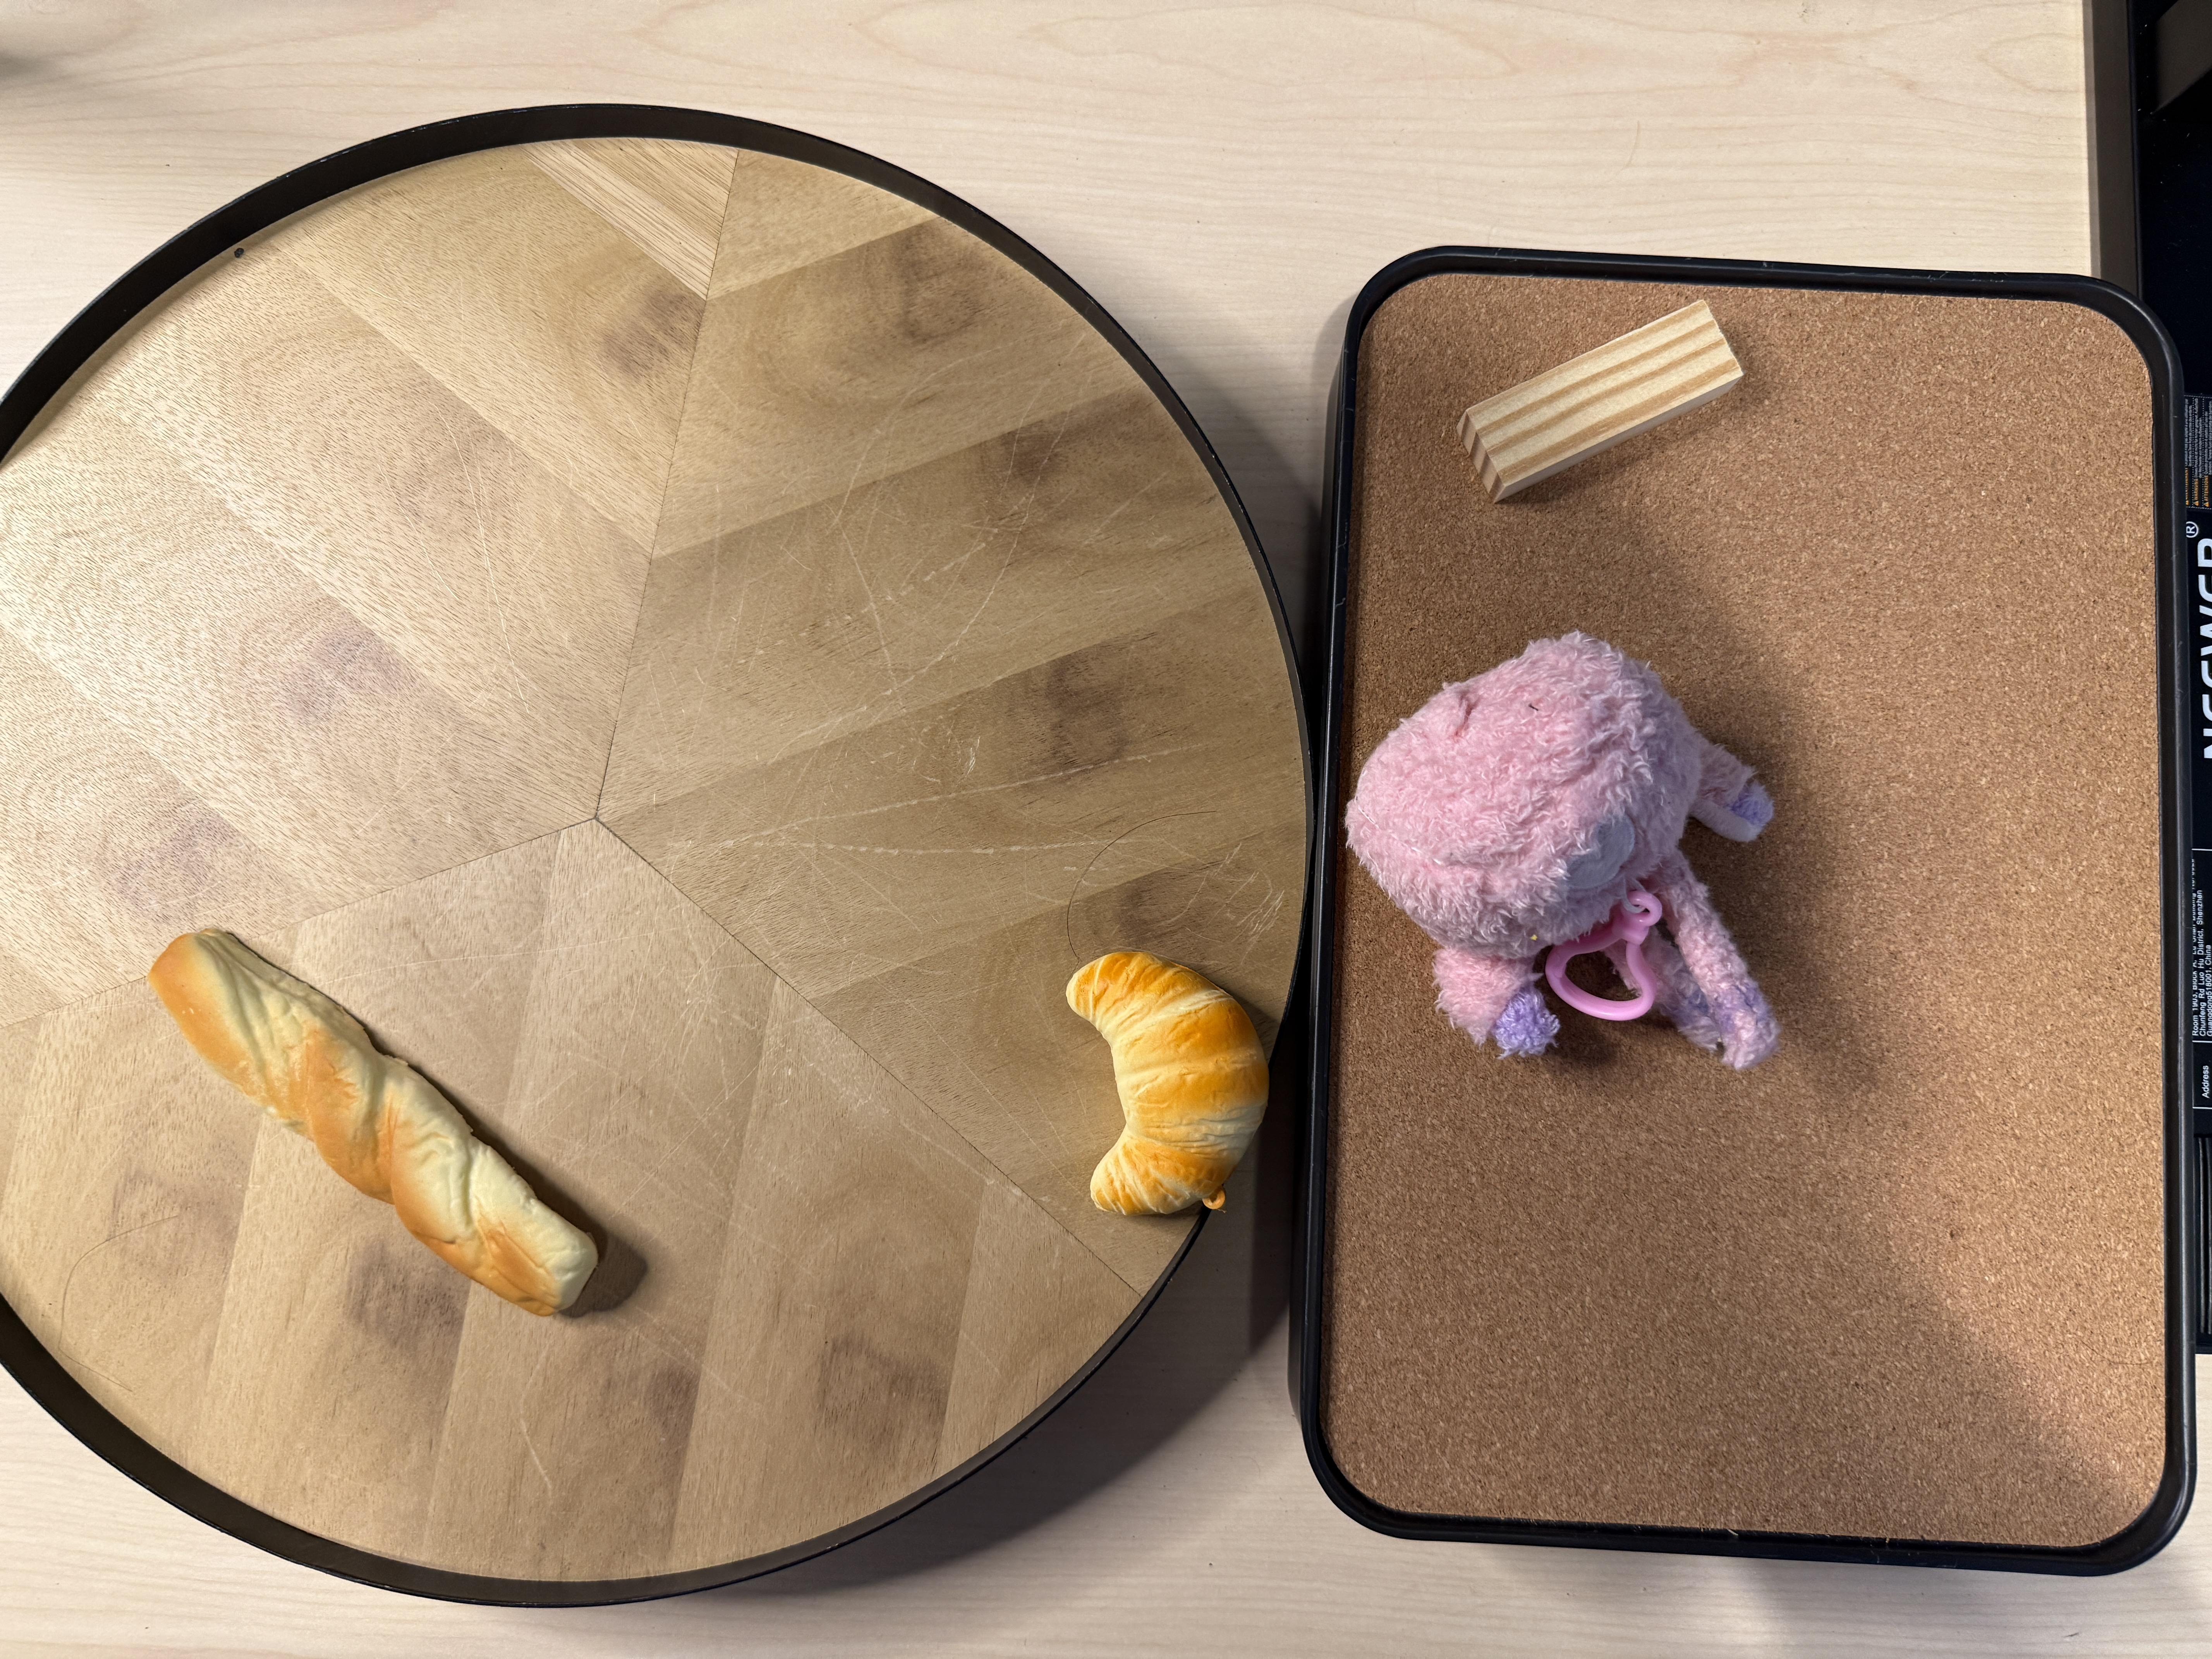block: (1454, 298, 1743, 500)
bread: (145, 929, 601, 1319), (1069, 948, 1271, 1213)
doll: (1348, 633, 1780, 1061)
